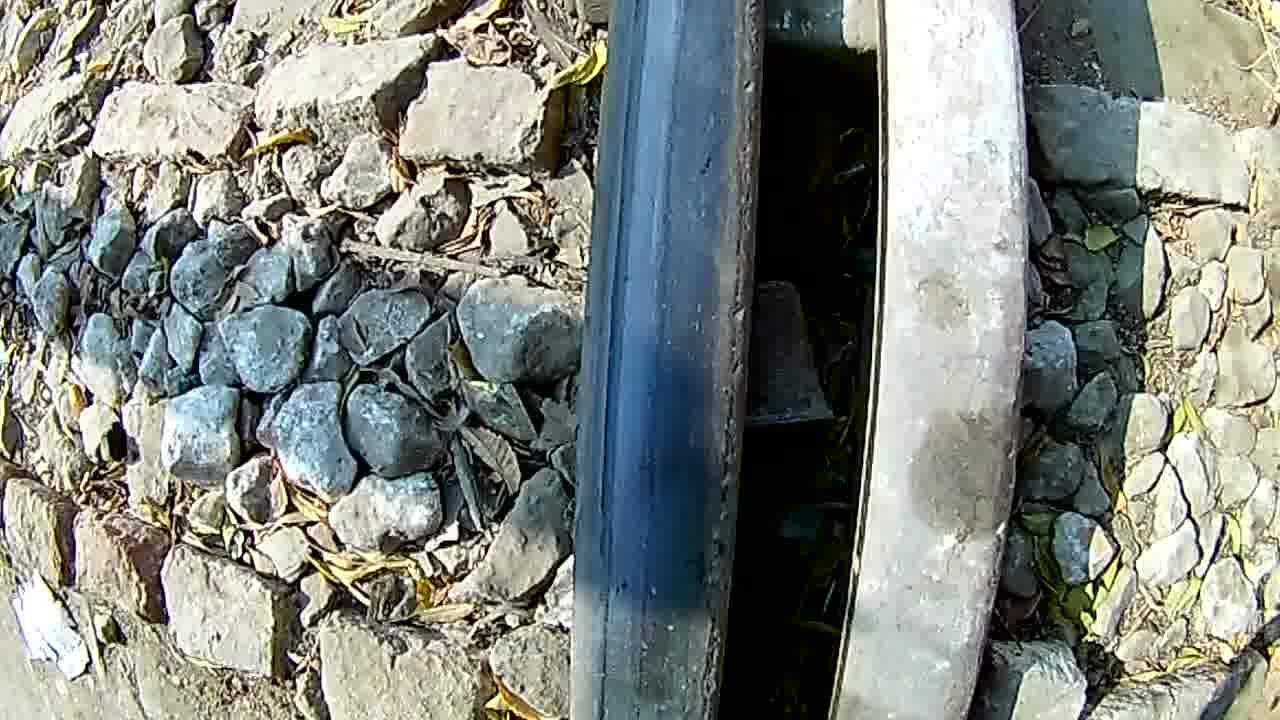clip_missing: (562, 0, 764, 720)
